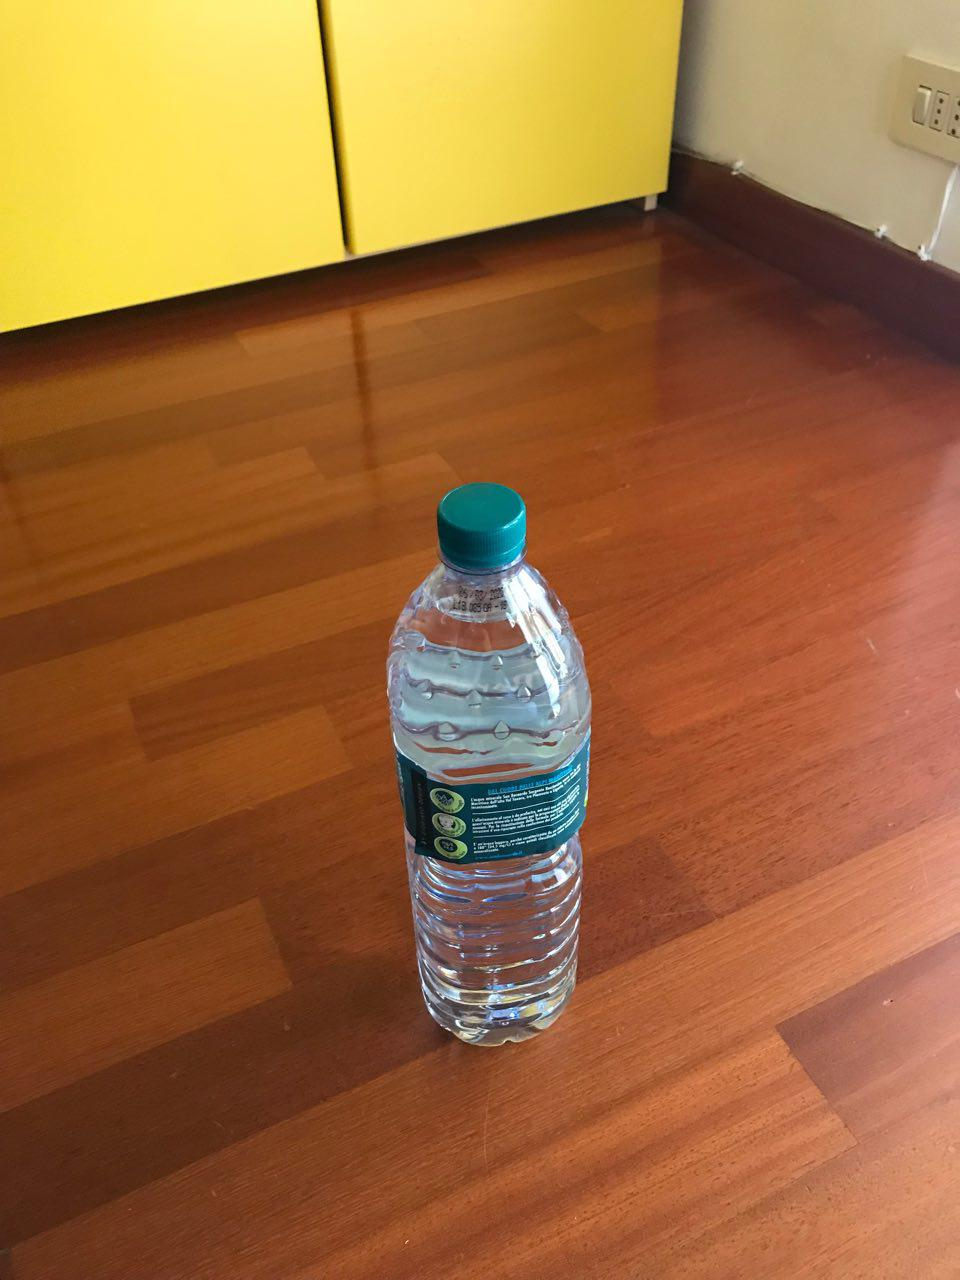san_bernardo: (383, 481, 595, 1049)
